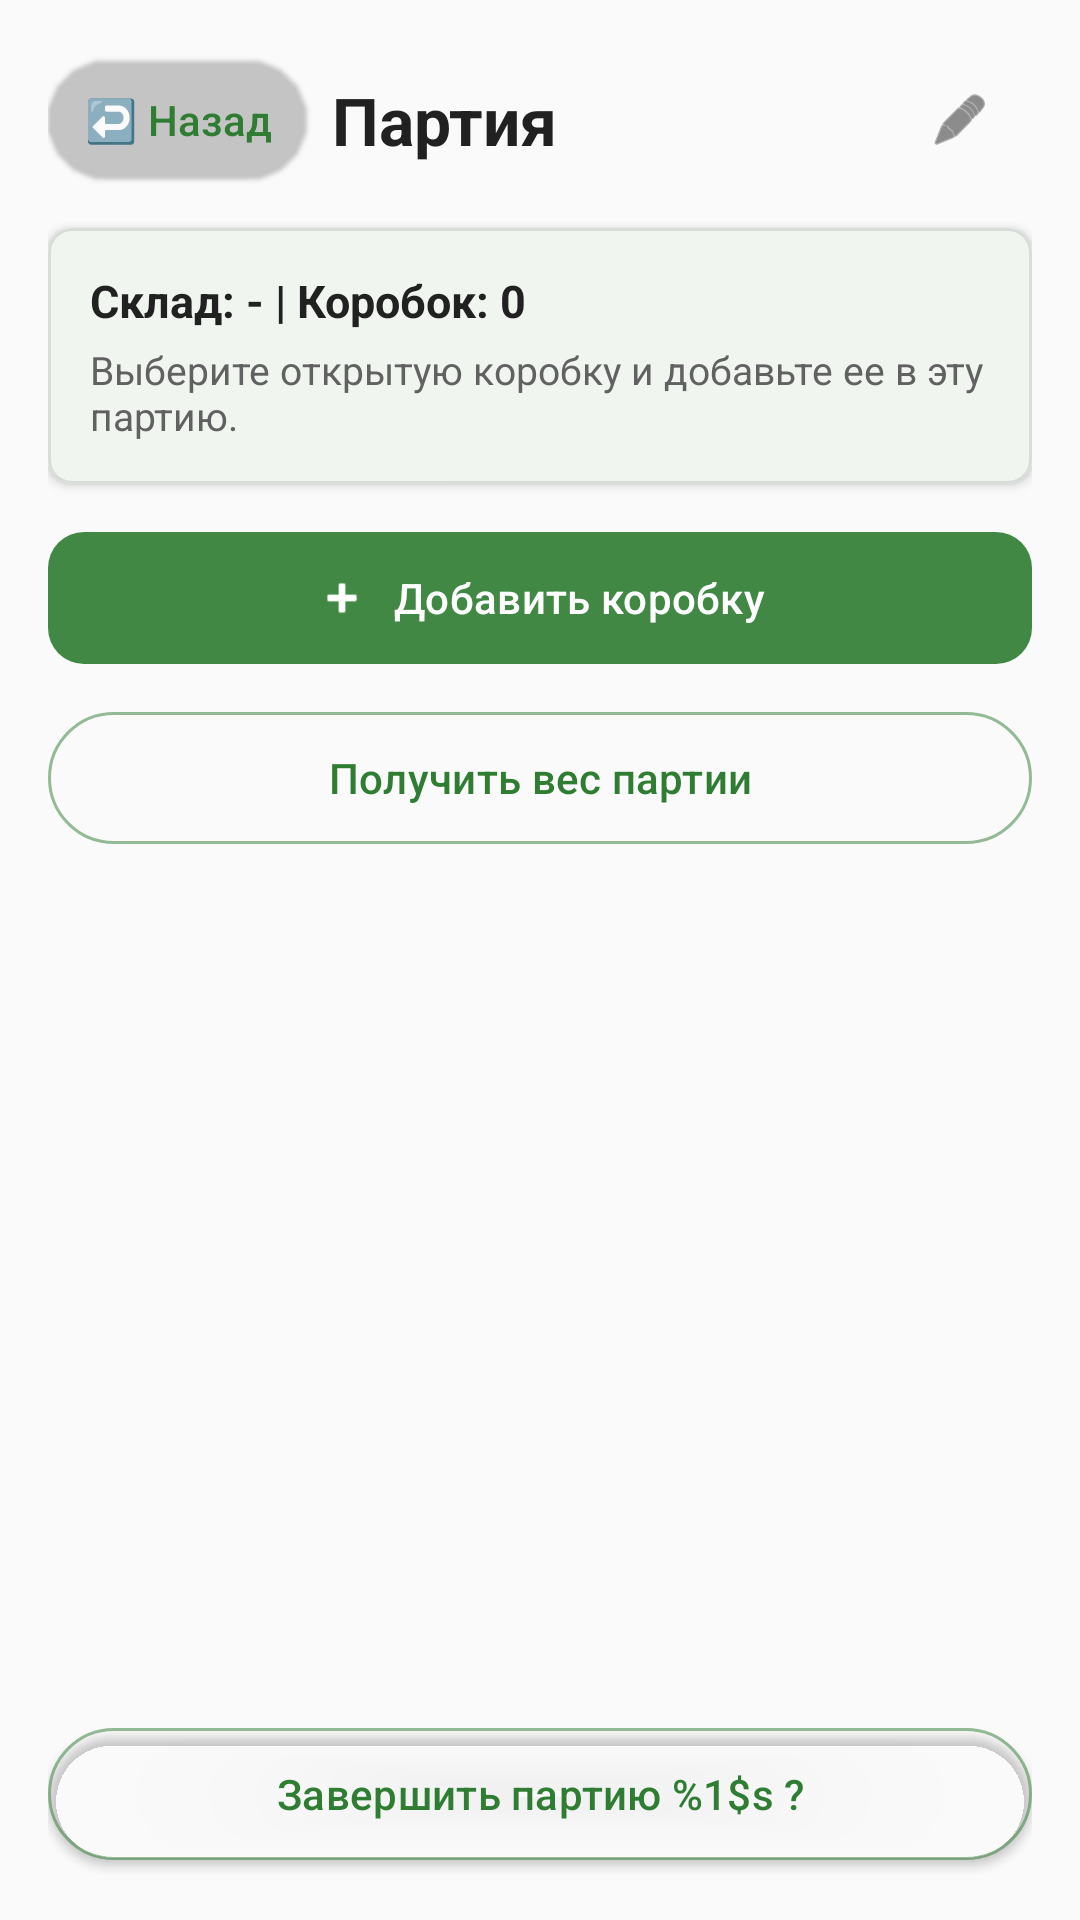

Icons on this 1080px x 1920px Android screen, each with its box as bbox=(x1, y1, x2, y2):
Изменить название партии: bbox=(934, 94, 985, 145)
